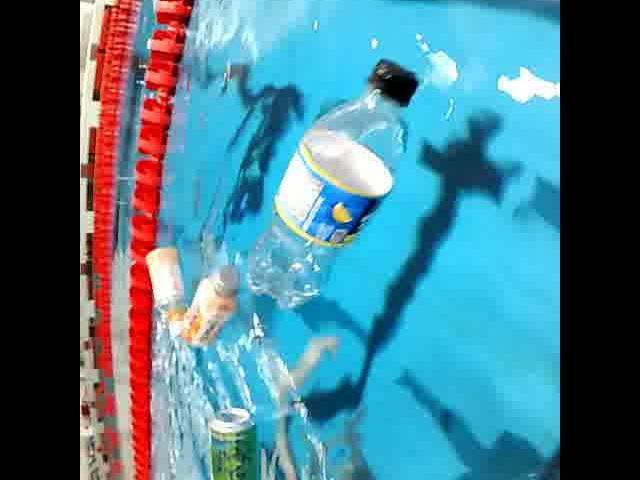Bottle: (245, 48, 425, 313), (183, 256, 243, 346), (142, 243, 190, 340)
Can: (204, 396, 260, 480)
